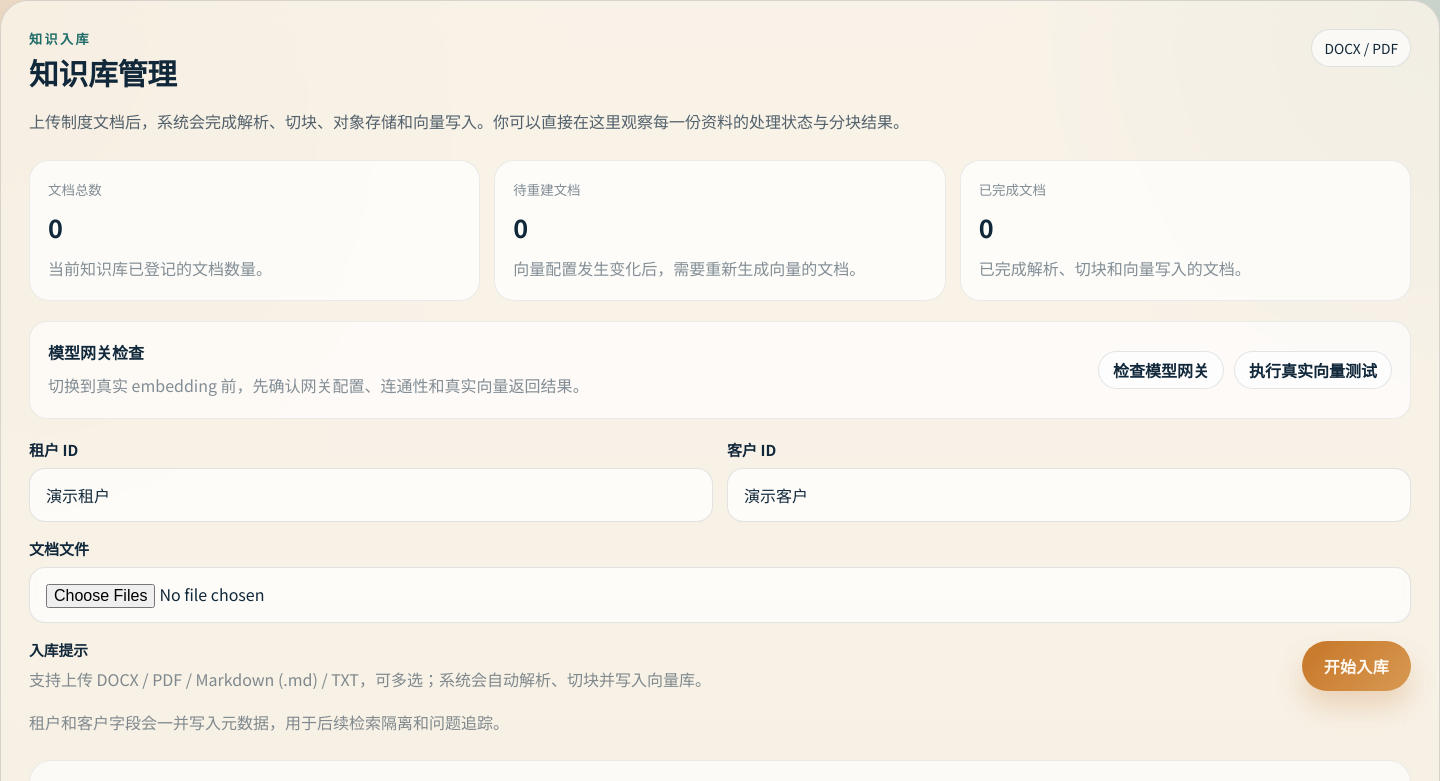
Test: runs embedding smoke test and shows latency with vector dimension
Click the button "执行真实向量测试" at [1313, 370], box [1234, 351, 1392, 389]
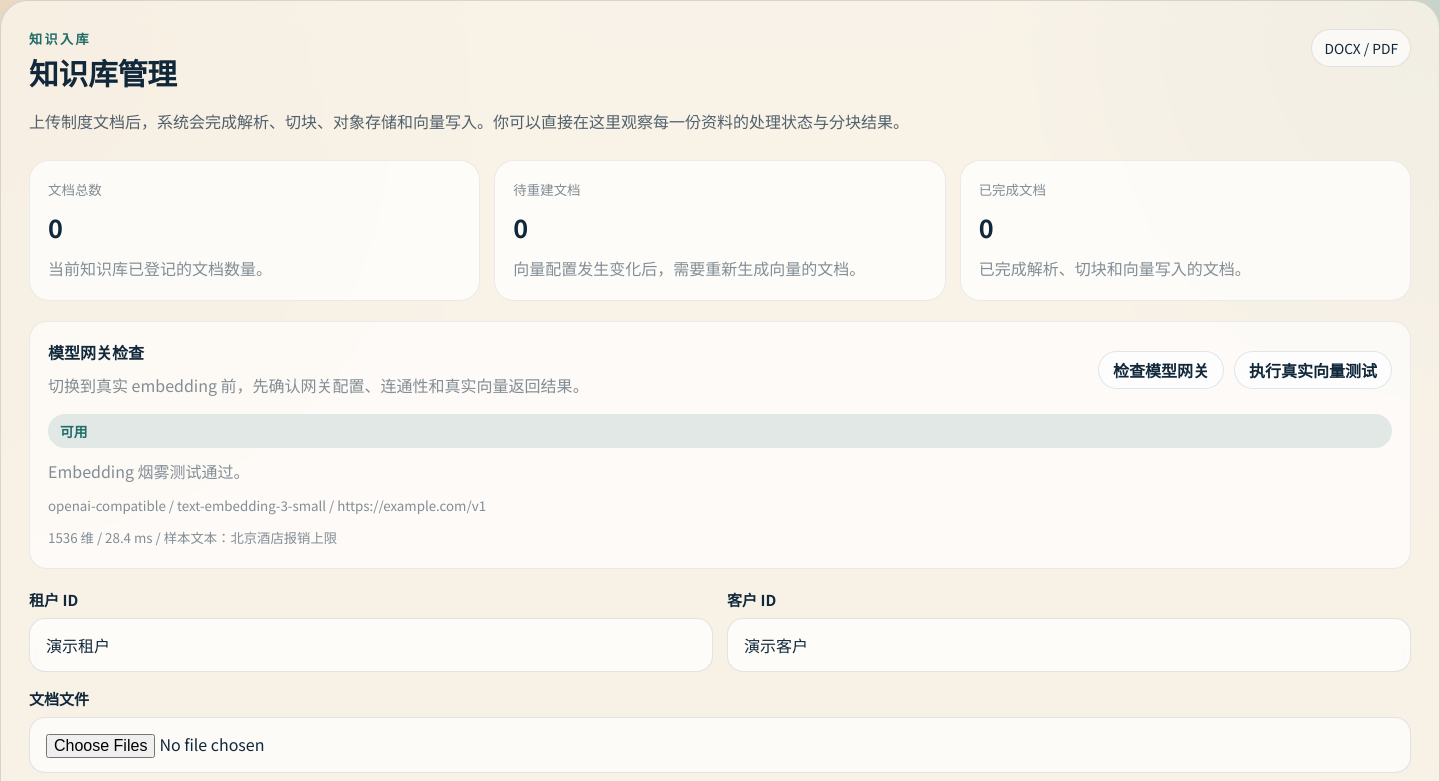
Expected: the text "Embedding 烟雾测试通过。" is shown, [48, 458, 250, 482]
Expected: the text "1536 维 / 28.4 ms / 样本文本：北京酒店报销上限" is shown, [48, 528, 337, 547]
